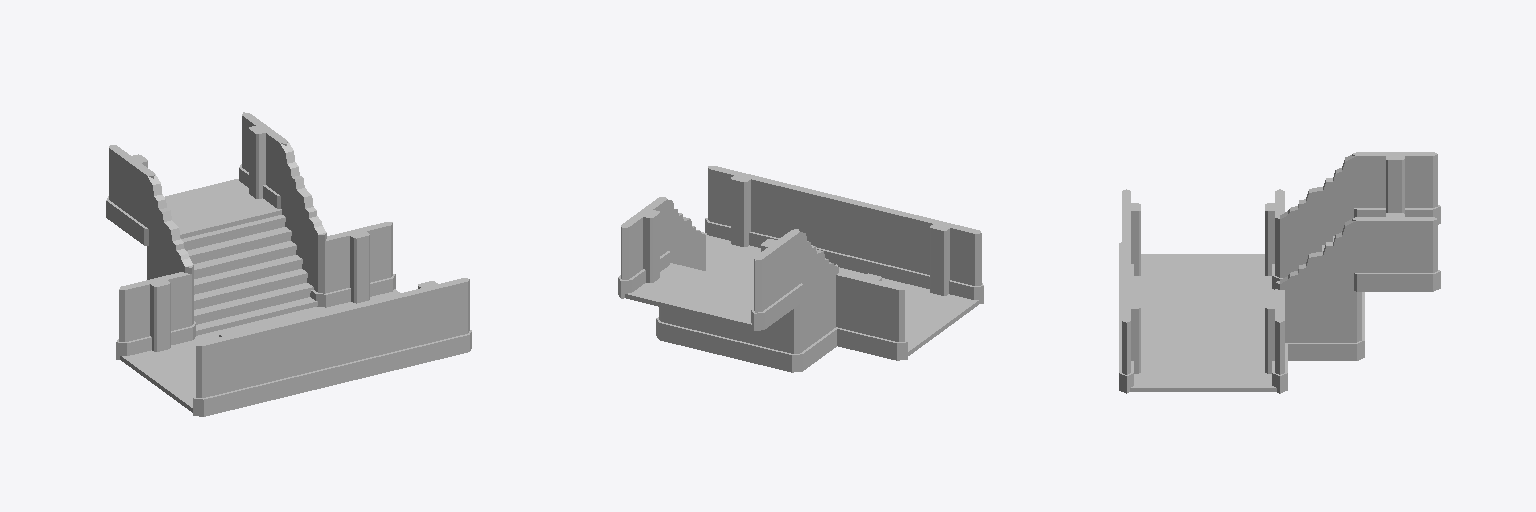
The model's file is intersection_3way_stair_01.obj.
The picture shows the model from 3 angles: view 1: azimuth 30°, elevation 25°; view 2: azimuth 150°, elevation 25°; view 3: azimuth 270°, elevation 25°; orthographic projection.
Visible parts, largest first — view 1: stairs_01_9, wall_02_5, wall_02_4, wall_02_6, wall_01_7, wall_01_8, wall_02_3, floor_04_10, wall_02_12, wall_02_11, floor_04_2, floor_01_0; view 2: stairs_01_9, wall_02_4, wall_02_5, floor_04_10, wall_02_6, wall_01_8, wall_02_12, wall_01_7, wall_02_11, floor_04_2, floor_04_1; view 3: stairs_01_9, floor_01_0, wall_02_11, wall_02_12, floor_04_1, floor_04_2, wall_02_3, wall_02_6, wall_02_4, wall_02_5.
Boxes of the visible parts, box(x1,y1,x2,y2) form: stairs_01_9: box(147, 142, 326, 335); wall_02_5: box(193, 327, 270, 416); wall_02_4: box(116, 272, 195, 359); wall_02_6: box(395, 278, 471, 367); wall_01_7: box(330, 294, 402, 383); wall_01_8: box(263, 311, 336, 400); wall_02_3: box(325, 222, 395, 307); floor_04_10: box(165, 179, 281, 238); wall_02_12: box(106, 145, 154, 245); wall_02_11: box(239, 112, 287, 208); floor_04_2: box(120, 341, 195, 412); floor_01_0: box(190, 307, 331, 345); stairs_01_9: box(656, 197, 838, 372); wall_02_4: box(836, 271, 907, 360); wall_02_5: box(906, 214, 983, 303); floor_04_10: box(625, 263, 753, 328); wall_02_6: box(705, 166, 781, 247); wall_01_8: box(841, 198, 913, 283); wall_02_12: box(751, 229, 802, 330); wall_01_7: box(774, 182, 844, 267); wall_02_11: box(618, 197, 669, 298); floor_04_2: box(905, 285, 979, 355); floor_04_1: box(705, 233, 760, 279); stairs_01_9: box(1272, 152, 1364, 360); floor_01_0: box(1134, 291, 1274, 354); wall_02_11: box(1352, 213, 1440, 291); wall_02_12: box(1352, 152, 1440, 224); floor_04_1: box(1130, 351, 1276, 391); floor_04_2: box(1134, 254, 1274, 290); wall_02_3: box(1265, 289, 1287, 393); wall_02_6: box(1119, 286, 1140, 393); wall_02_4: box(1265, 189, 1284, 289); wall_02_5: box(1119, 189, 1140, 276).
Size of the model in its own units: 4.21 by 2 by 4.21.